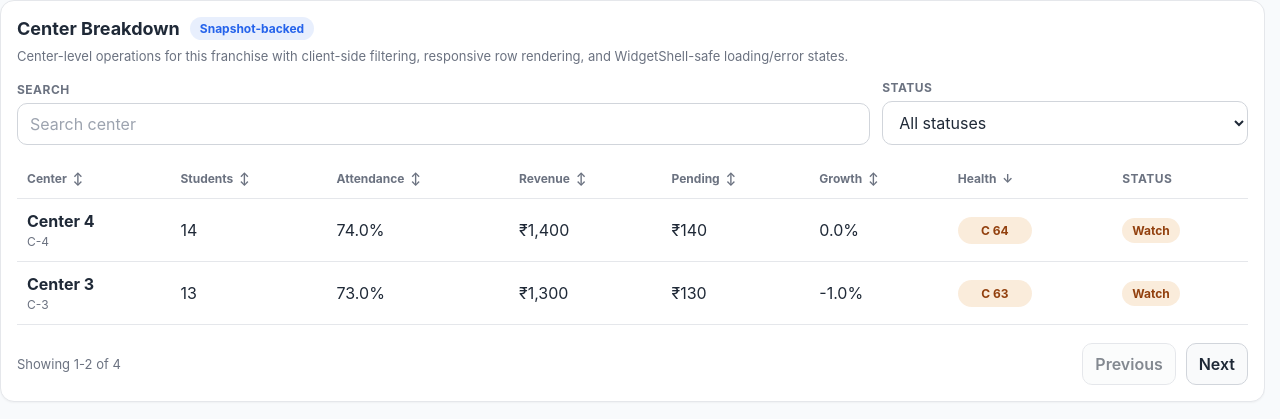
Test: FranchiseCenterBreakdownTable › supports client-side sorting, filtering, pagination, and mobile-safe rendering
Check: the heading "Center Breakdown" is shown, box [17,18,180,39]
Check: the text "Center 4" is shown, box [27,211,95,231]
Click the button "Next" at (1217, 364), box [1186,343,1248,385]
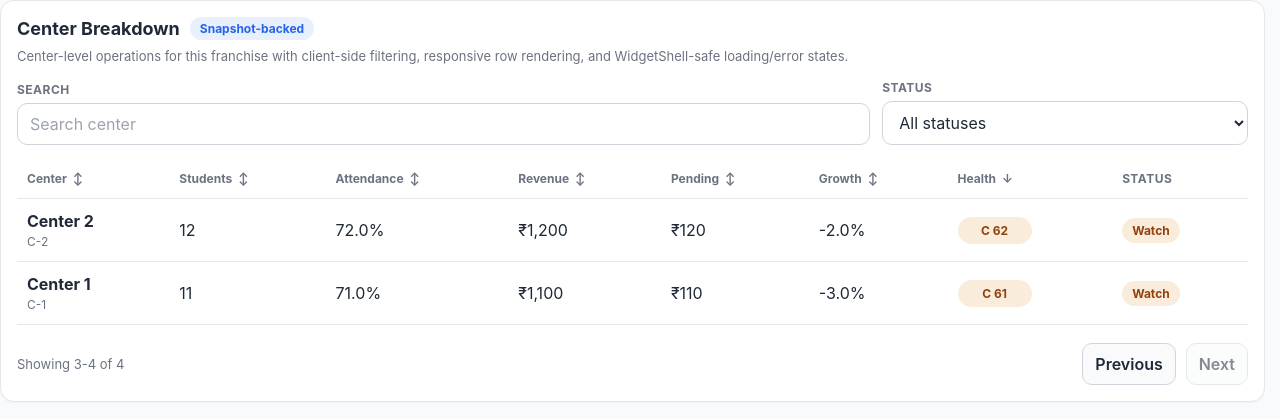
Check: the text "Showing 3-4 of 4" is shown, box [17,356,124,372]
Check: the text "Center 2" is shown, box [27,211,94,231]
Type "Center 1" into the field with placeholder "Search center" at (444, 124), box [17,103,870,145]
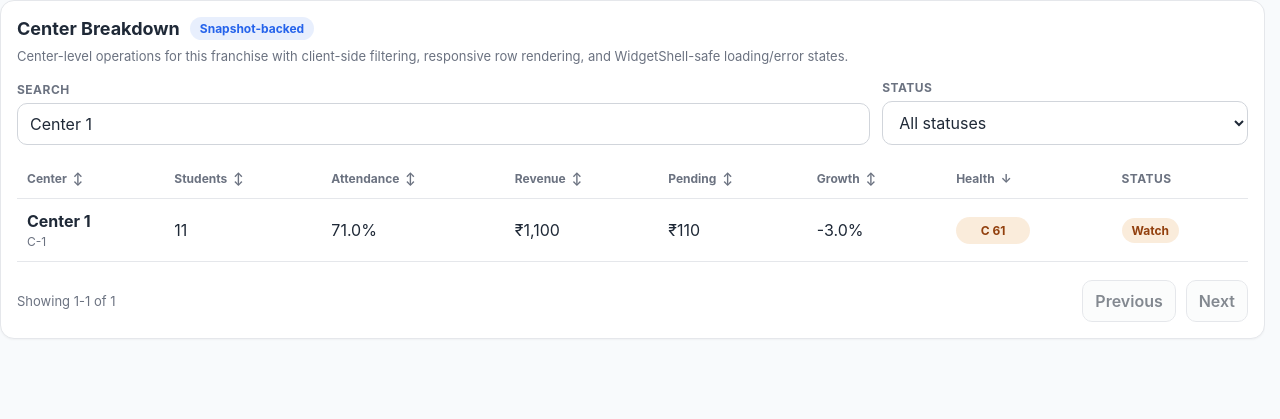
Check: the button "Students ↕" is shown, box [174,171,244,186]
Check: the text "Center 1" is shown, box [27,211,91,231]
Check: the text "Showing 1-1 of 1" is shown, box [17,293,116,309]
